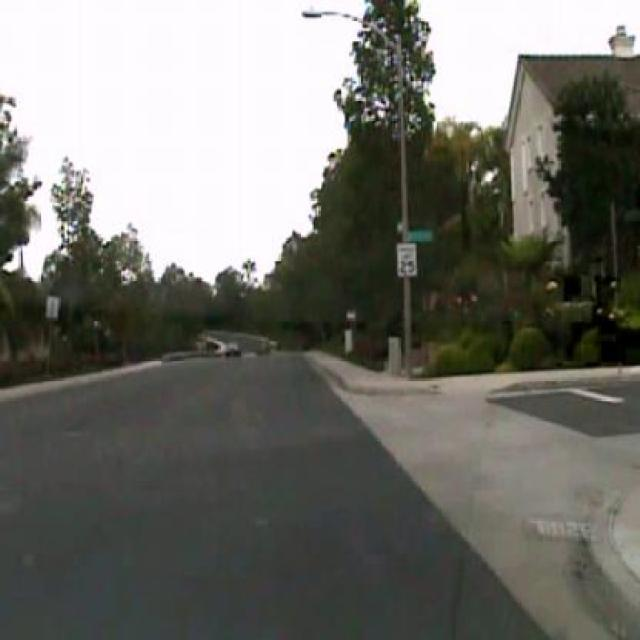speedLimit25: (395, 240, 417, 278)
